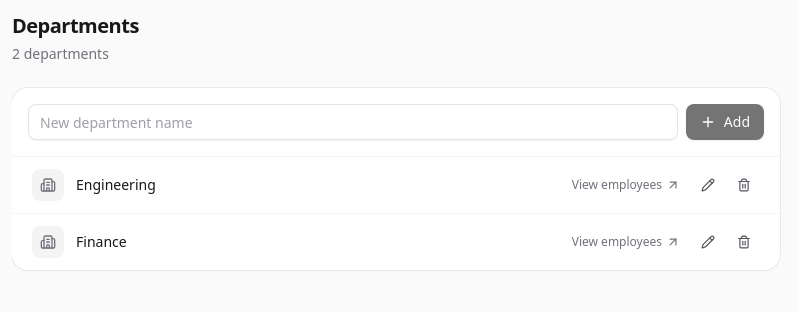
Scenario: DepartmentsPage › shows a duplicate-name error
Type "Finance" into the field with placeholder "New department name" at x=353, y=122, box [28,104,678,140]
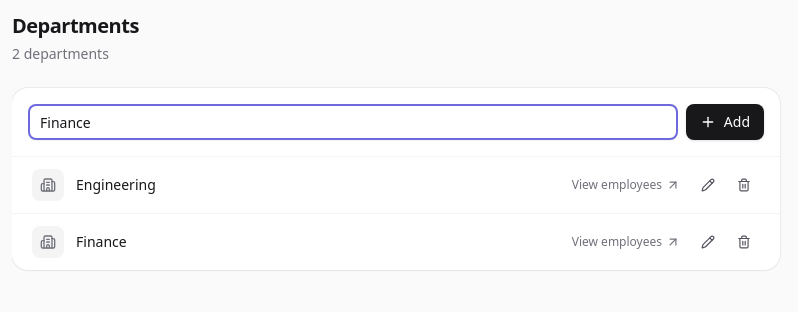
Click the button "Add" at x=725, y=122, box [686,104,764,140]
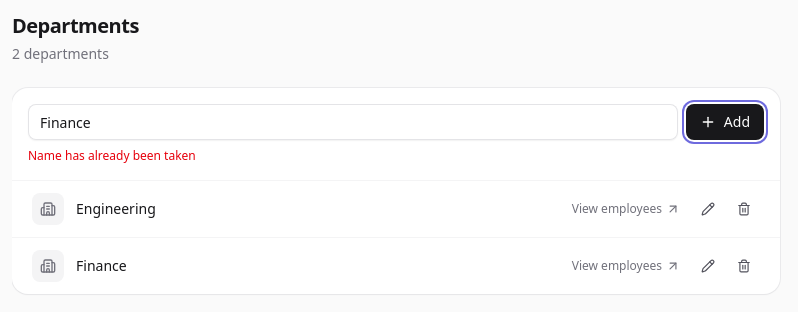
Now the text "Name has already been taken" is shown, box [28,147,196,164]
